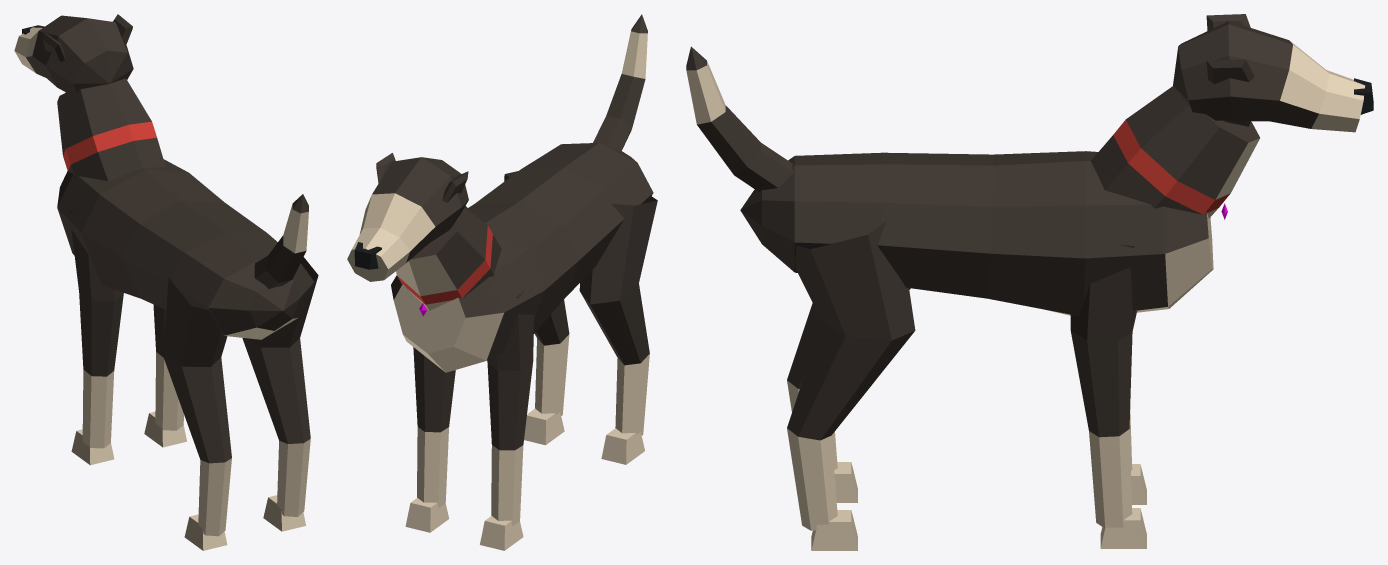
The model's file is dog.glb.
The picture shows the model from 3 angles, left to right: view 1: azimuth 30°, elevation 25°; view 2: azimuth 150°, elevation 25°; view 3: azimuth 270°, elevation 25°; orthographic projection. The views are drawn at different scales.
Parts seen in each view (by area): view 1: dog__body, dog__head, dog__leg_rl, dog__leg_rr, dog__leg_fl, dog__leg_fr, dog__tail; view 2: dog__body, dog__head, dog__leg_rl, dog__leg_fl, dog__leg_fr, dog__leg_rr, dog__tail; view 3: dog__body, dog__head, dog__leg_rr, dog__leg_fr, dog__tail, dog__leg_rl.
Boxes of the visible parts, box(x1,y1,x2,y2) form: dog__body: box(57, 159, 314, 339); dog__head: box(14, 14, 165, 180); dog__leg_rl: box(163, 265, 231, 550); dog__leg_rr: box(242, 257, 318, 531); dog__leg_fl: box(69, 210, 123, 465); dog__leg_fr: box(144, 304, 186, 447); dog__tail: box(254, 194, 308, 288); dog__body: box(391, 142, 653, 372); dog__head: box(347, 153, 501, 316); dog__leg_rl: box(579, 196, 657, 464); dog__leg_fl: box(480, 290, 533, 550); dog__leg_fr: box(405, 347, 455, 532); dog__leg_rr: box(504, 171, 569, 445); dog__tail: box(593, 14, 647, 151); dog__body: box(740, 151, 1213, 315); dog__head: box(1091, 14, 1373, 219); dog__leg_rr: box(787, 221, 915, 550); dog__leg_fr: box(1070, 244, 1146, 548); dog__tail: box(686, 46, 793, 191); dog__leg_rl: box(787, 288, 910, 502).
Size of the model in its own units: 0.2513 by 0.7526 by 0.9462.
Materials: 1 (1 with a texture image).
